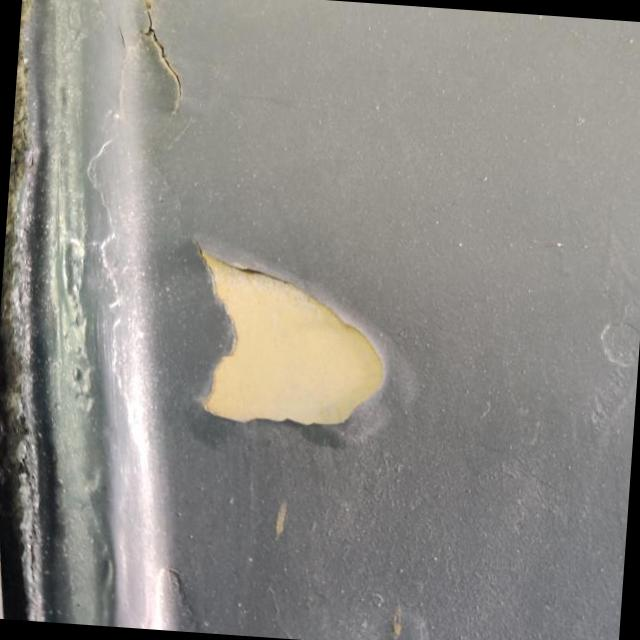Crack: (133, 0, 194, 146)
Paint-off: (199, 249, 383, 426)
